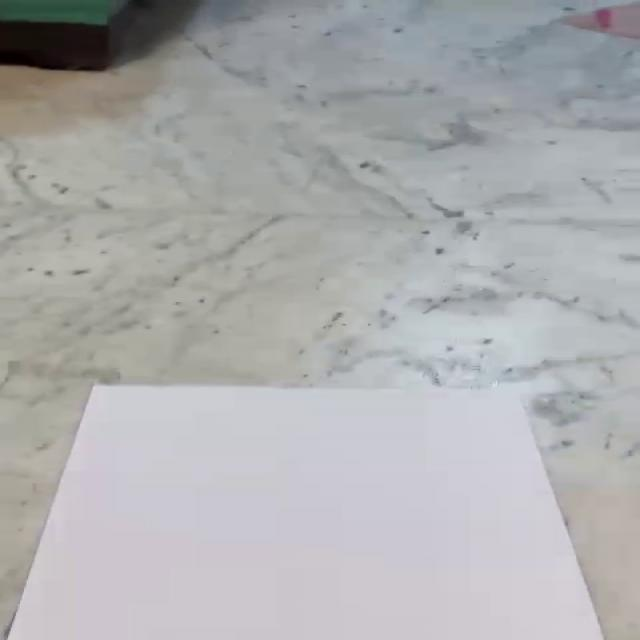road: (4, 385, 605, 640)
